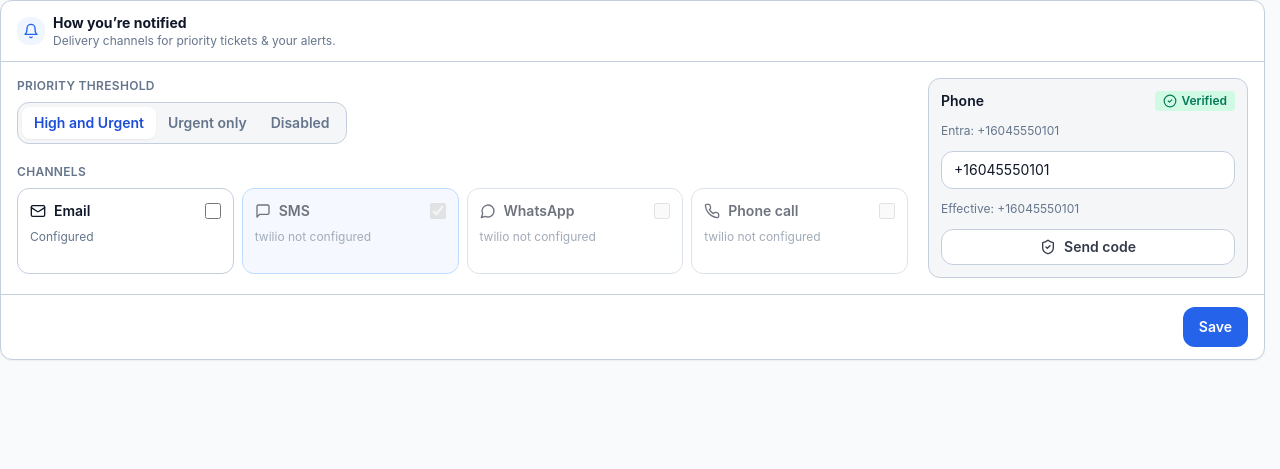
it: NotificationSettingsPanel › QA 10-28 #1: Save waits while a code is pending; cancelling the check frees it
Expected: the text "Verified" is shown, [1155,91,1235,111]
What coordinates should you click on to do the following:
click the button "Send code"
I would click on:
 (1088, 247)
Its box is [941,229,1235,265].
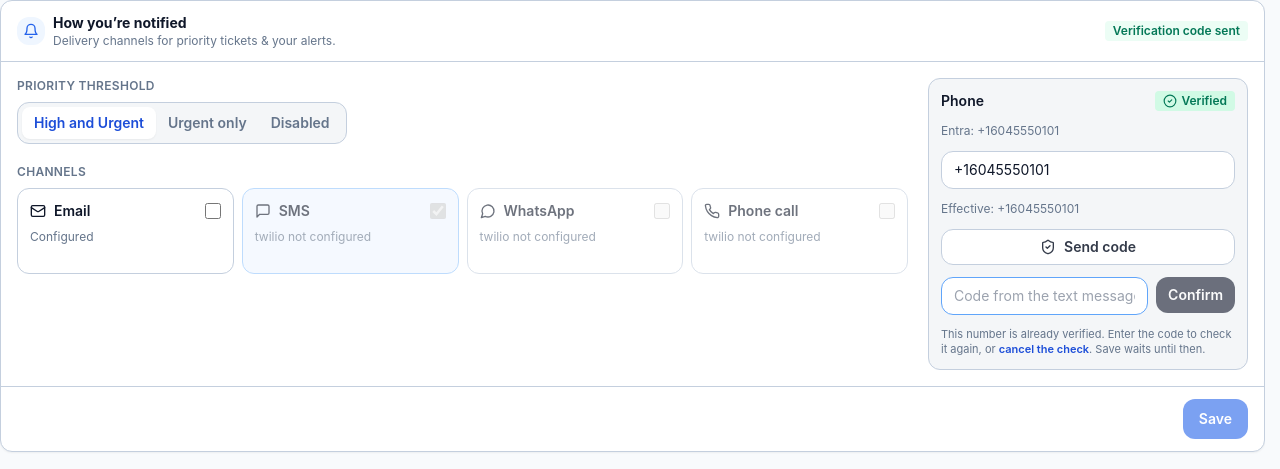
Now the field named "Verification code" is shown, box [941,277,1148,315]
Now the button "Save" is disabled, box [1183,399,1248,439]
Now the element with test id "code-pending-note" shows "already verified", box [941,327,1232,356]
What coordinates should you click on to do the following:
click the button "cancel the check"
I would click on:
 (1044, 350)
Its box is [999,342,1089,357].
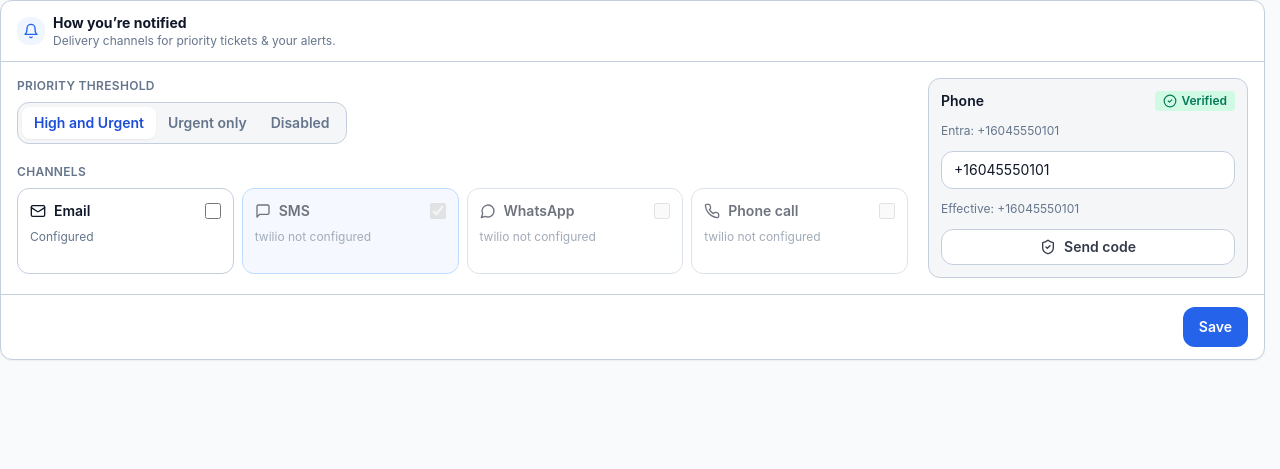
Now the text labelled "Verification code" is gone
Now the button "Save" is enabled, box [1183,307,1248,347]
